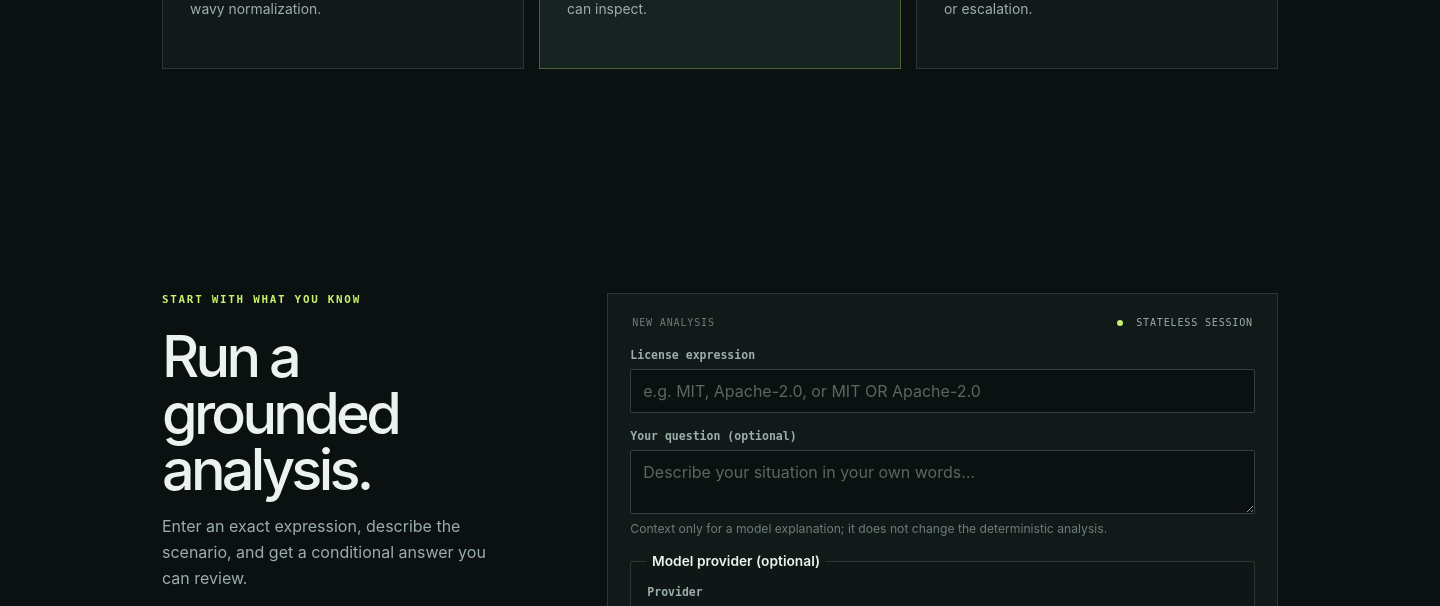
Test case: analysis experience › renders a generic error state when the API boundary fails
(page scrolled)
In the field labelled "License expression": (943, 391) [630, 369, 1255, 413], type "Apache-2.0"
(page scrolled)
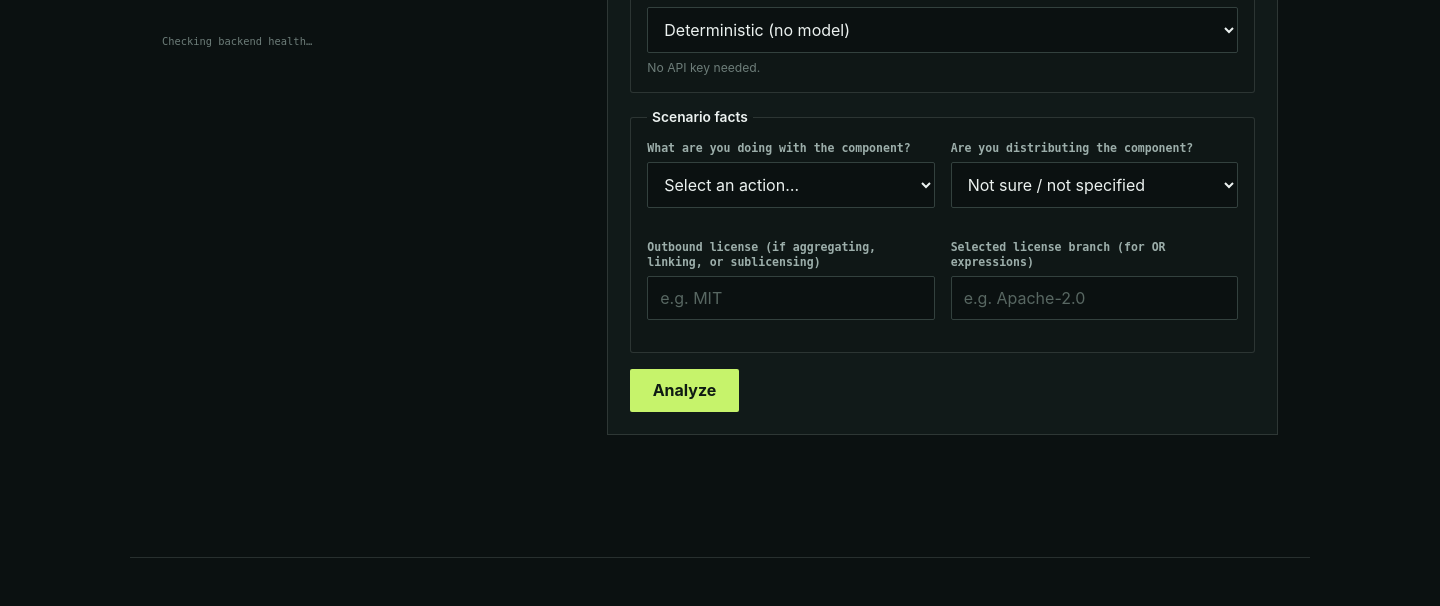
Click the button "Analyze": (685, 390) [630, 369, 739, 412]
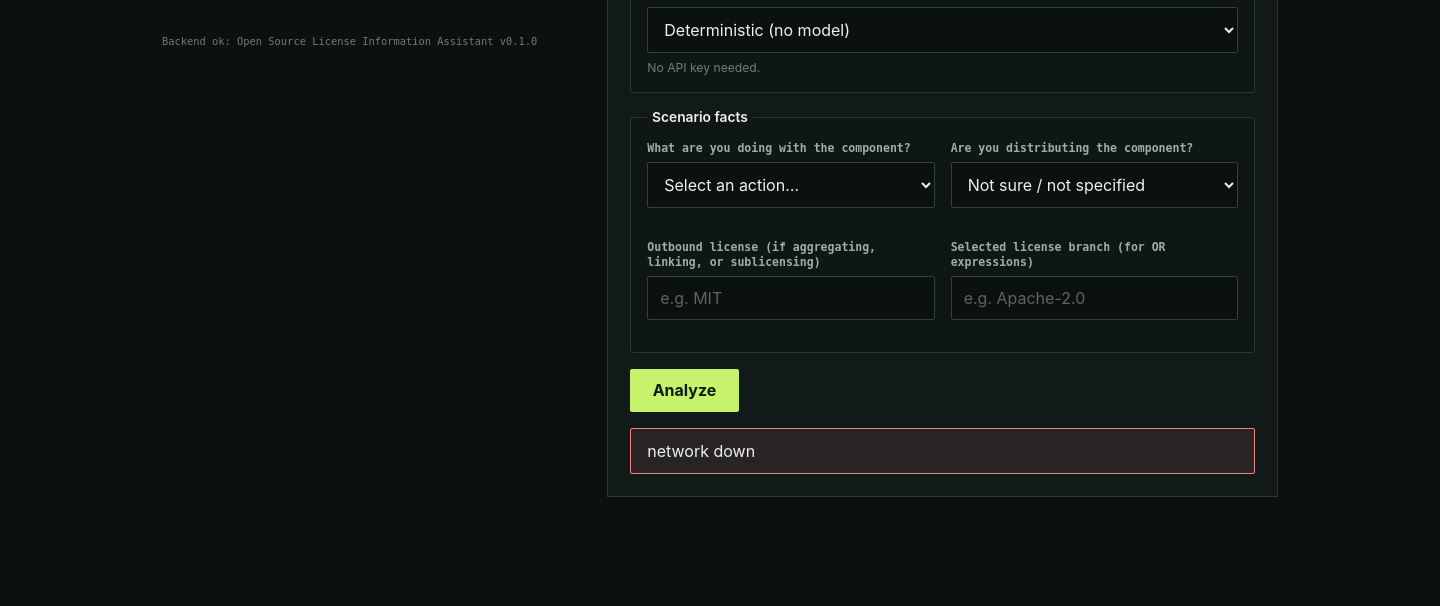
Expected: the message "network down" is shown, [630, 428, 1255, 474]
